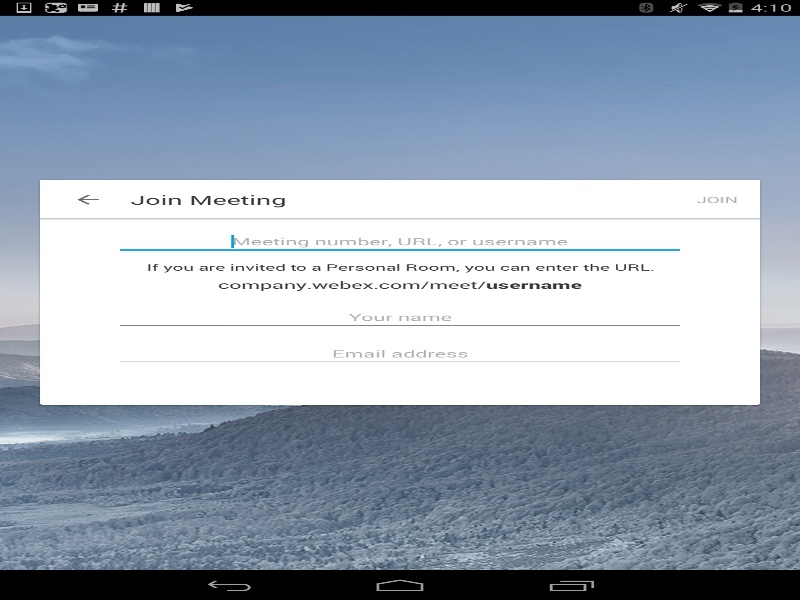Button: (50, 182, 125, 217)
Input: (114, 228, 685, 255), (114, 340, 685, 367), (114, 304, 685, 330)
